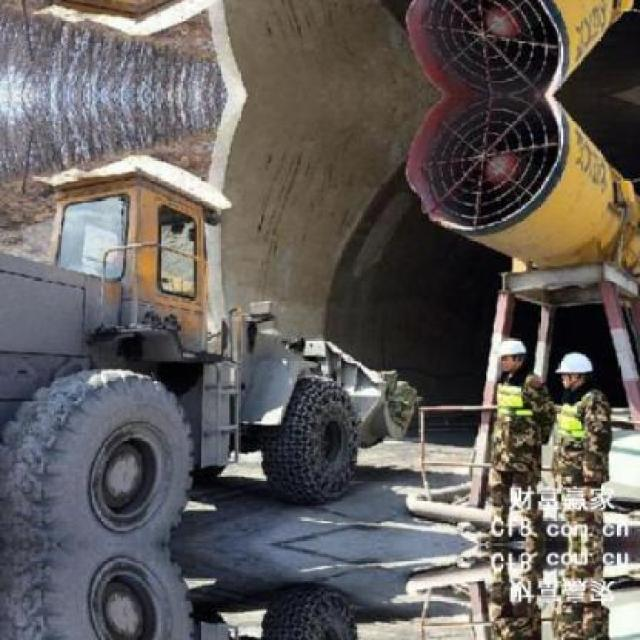helmet: (493, 333, 529, 375), (556, 349, 592, 389)
